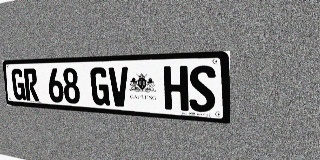6: (47, 68, 64, 103)
8: (62, 68, 80, 104)
G: (90, 67, 110, 106), (11, 69, 26, 100)
H: (163, 66, 189, 111)
R: (23, 68, 39, 101)
S: (189, 65, 216, 113)
V: (108, 67, 130, 107)
